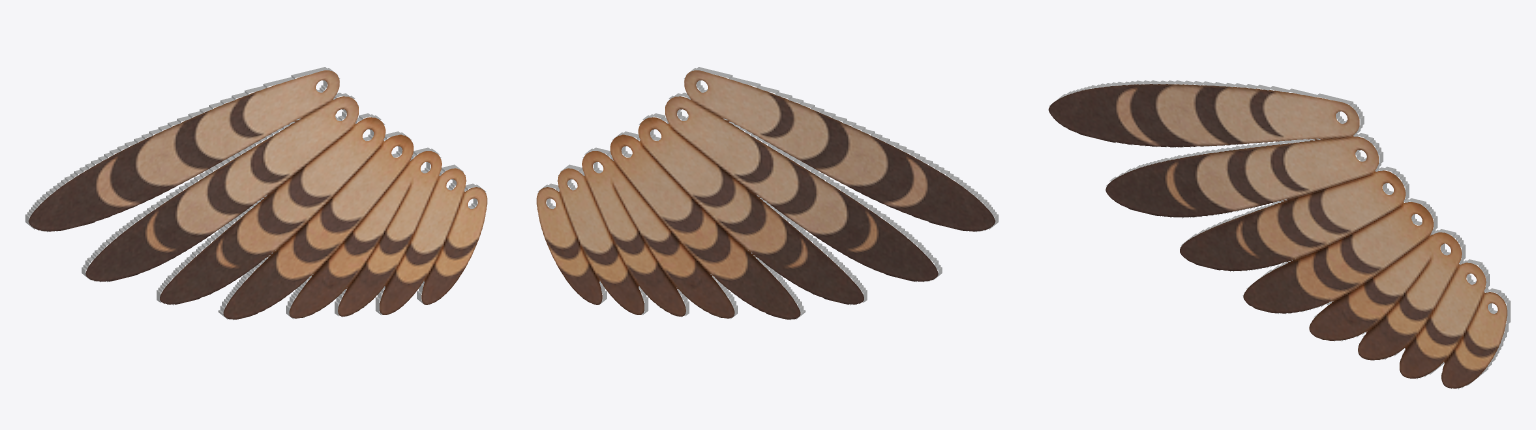
Rendered from FanLeft.glb.
The picture shows the model from 3 angles, left to right: view 1: azimuth 30°, elevation 25°; view 2: azimuth 150°, elevation 25°; view 3: azimuth 330°, elevation 25°; orthographic projection.
Visible parts, largest first — view 1: PaperVolume; view 2: PaperVolume; view 3: PaperVolume.
Part boxes in pixels (x1,y1,x2,y2): PaperVolume: (25, 67, 487, 319); PaperVolume: (536, 67, 998, 319); PaperVolume: (1048, 80, 1510, 389).
Bounding box in the file's own units: 5.52 × 3.1 × 0.08.
Materials: 3 (2 with a texture image).
